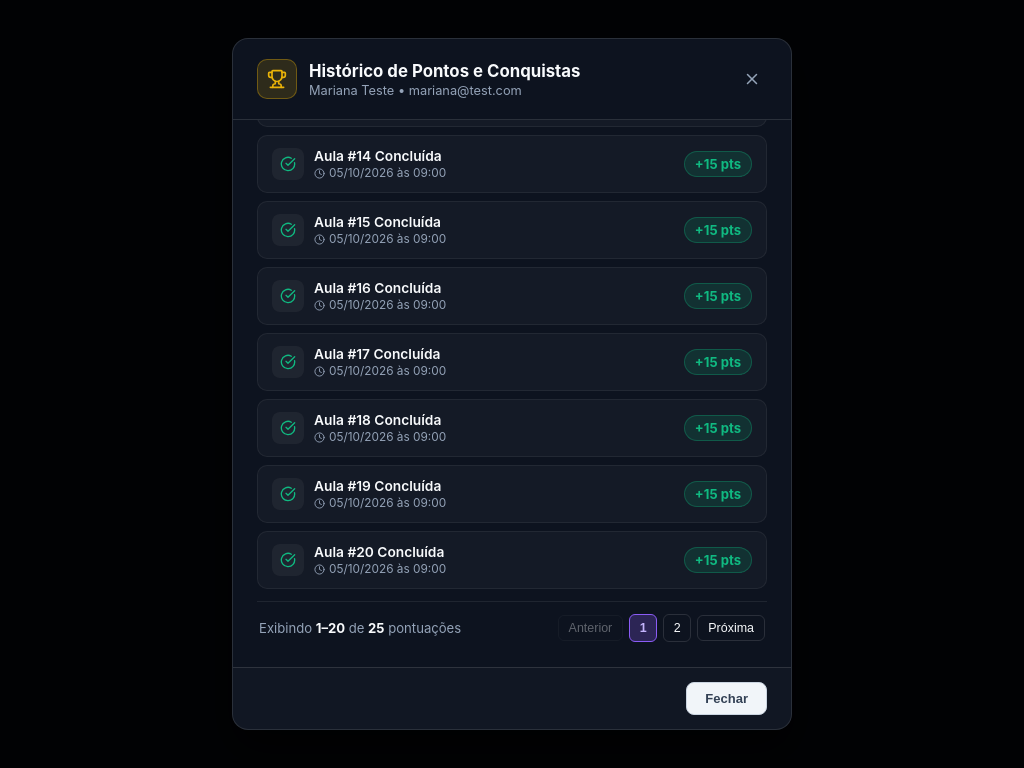
Test: StudentGamificationHistoryModal Component › paginates points history displaying 20 per page with pagination bar and navigation
The width and height of the screenshot is (1024, 768).
(page scrolled)
Expected: the element with test id "history-item-119" is shown, [257,531,767,589]
Expected: the element with test id "gamification-history-pagination-bar" shows "Exibindo 1–20 de 25 pontuações", [257,601,767,646]
# Navega para página 2
Click the button with test id "gamification-history-page-2-btn": (677, 628) [663,614,691,642]
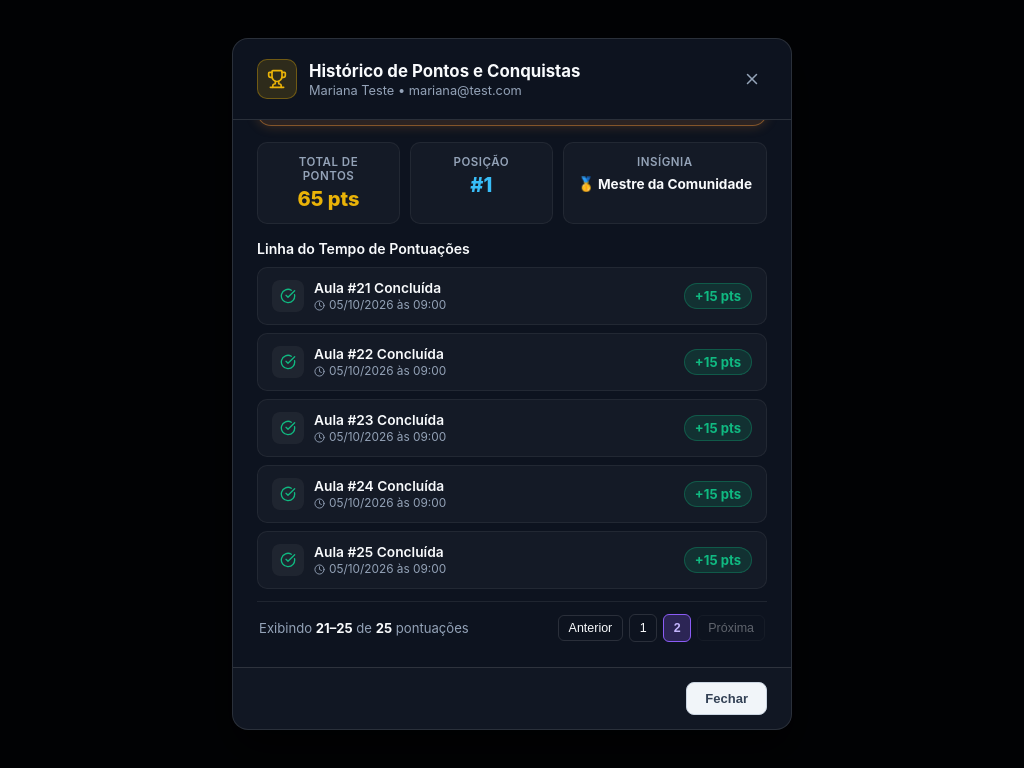
Expected: the element with test id "history-item-120" is shown, [257,267,767,325]
Expected: the element with test id "history-item-124" is shown, [257,531,767,589]
Expected: the element with test id "gamification-history-pagination-bar" shows "Exibindo 21–25 de 25 pontuações", [257,601,767,646]
